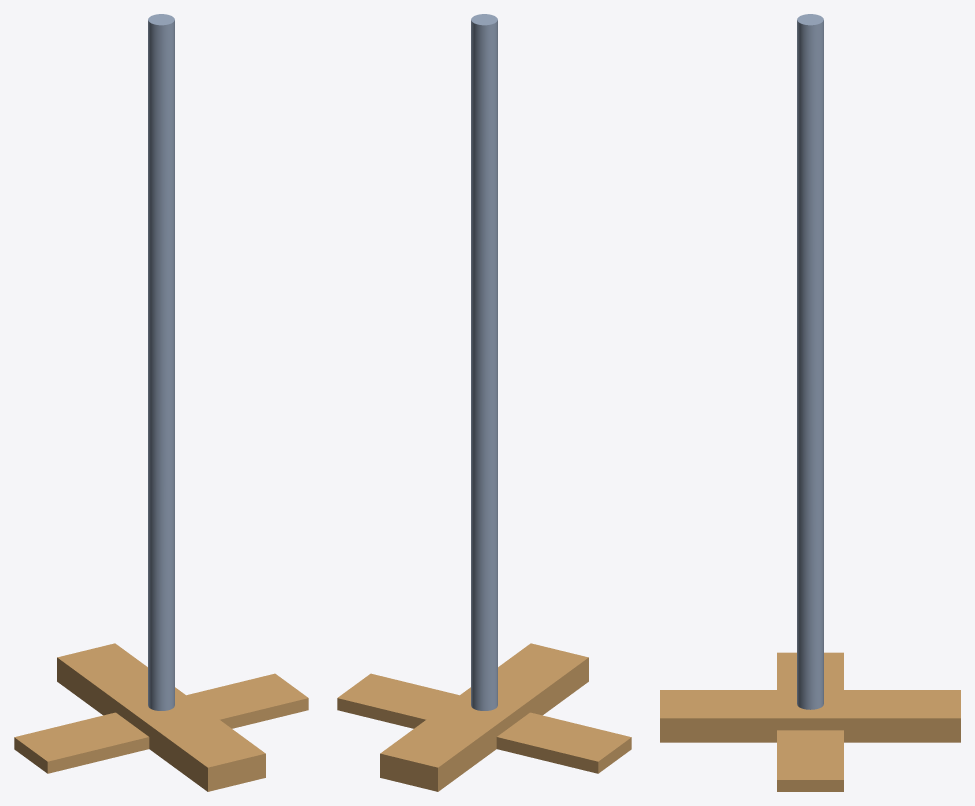
File: festivusPole.fbx
The picture shows the model from 3 angles, left to right: view 1: azimuth 30°, elevation 25°; view 2: azimuth 150°, elevation 25°; view 3: azimuth 270°, elevation 25°; orthographic projection.
Visible parts, largest first — view 1: festivusPole; view 2: festivusPole; view 3: festivusPole.
Part boxes in pixels (x1=…): festivusPole: x1=14, y1=14, x2=308, y2=791; festivusPole: x1=337, y1=14, x2=631, y2=791; festivusPole: x1=660, y1=14, x2=960, y2=791.
Size of the model in its own units: 4.5 by 11.7 by 4.5.
